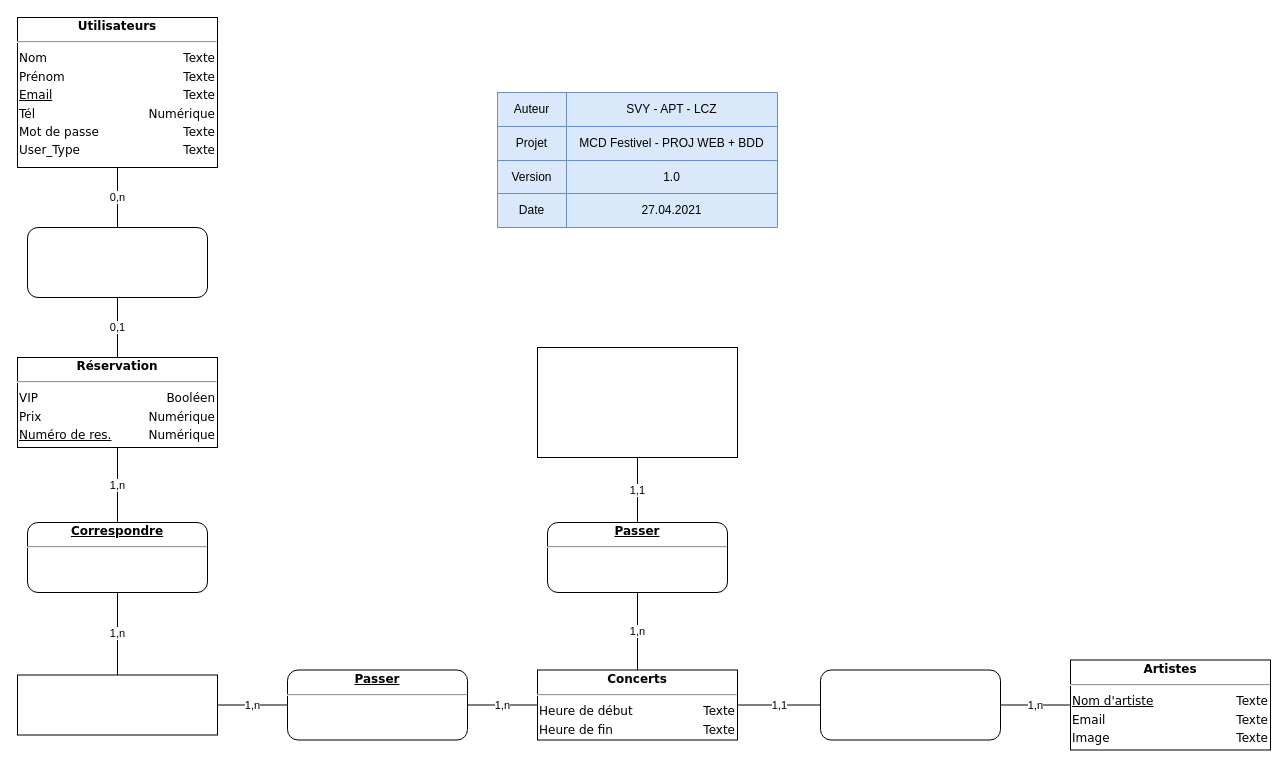
This 1288x768 diagram has some shape labels left out. The centre of each missing label's shape, as x and y in pixels:
"Acheter" goes at pixel 117 262.
"Jours Date Date" goes at pixel 117 704.
"Représenter" goes at pixel 910 704.
"Scènes Nom Texte Taille Texte Capacité Numérique Emplacement Texte" goes at pixel 637 402.
